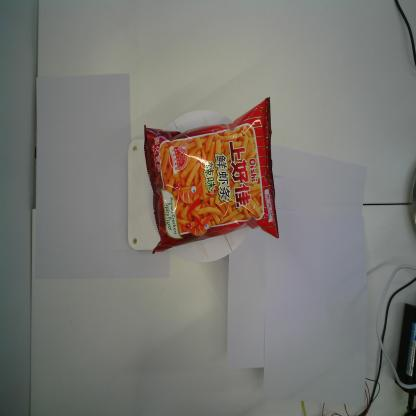Puffed Food: (142, 95, 280, 255)
